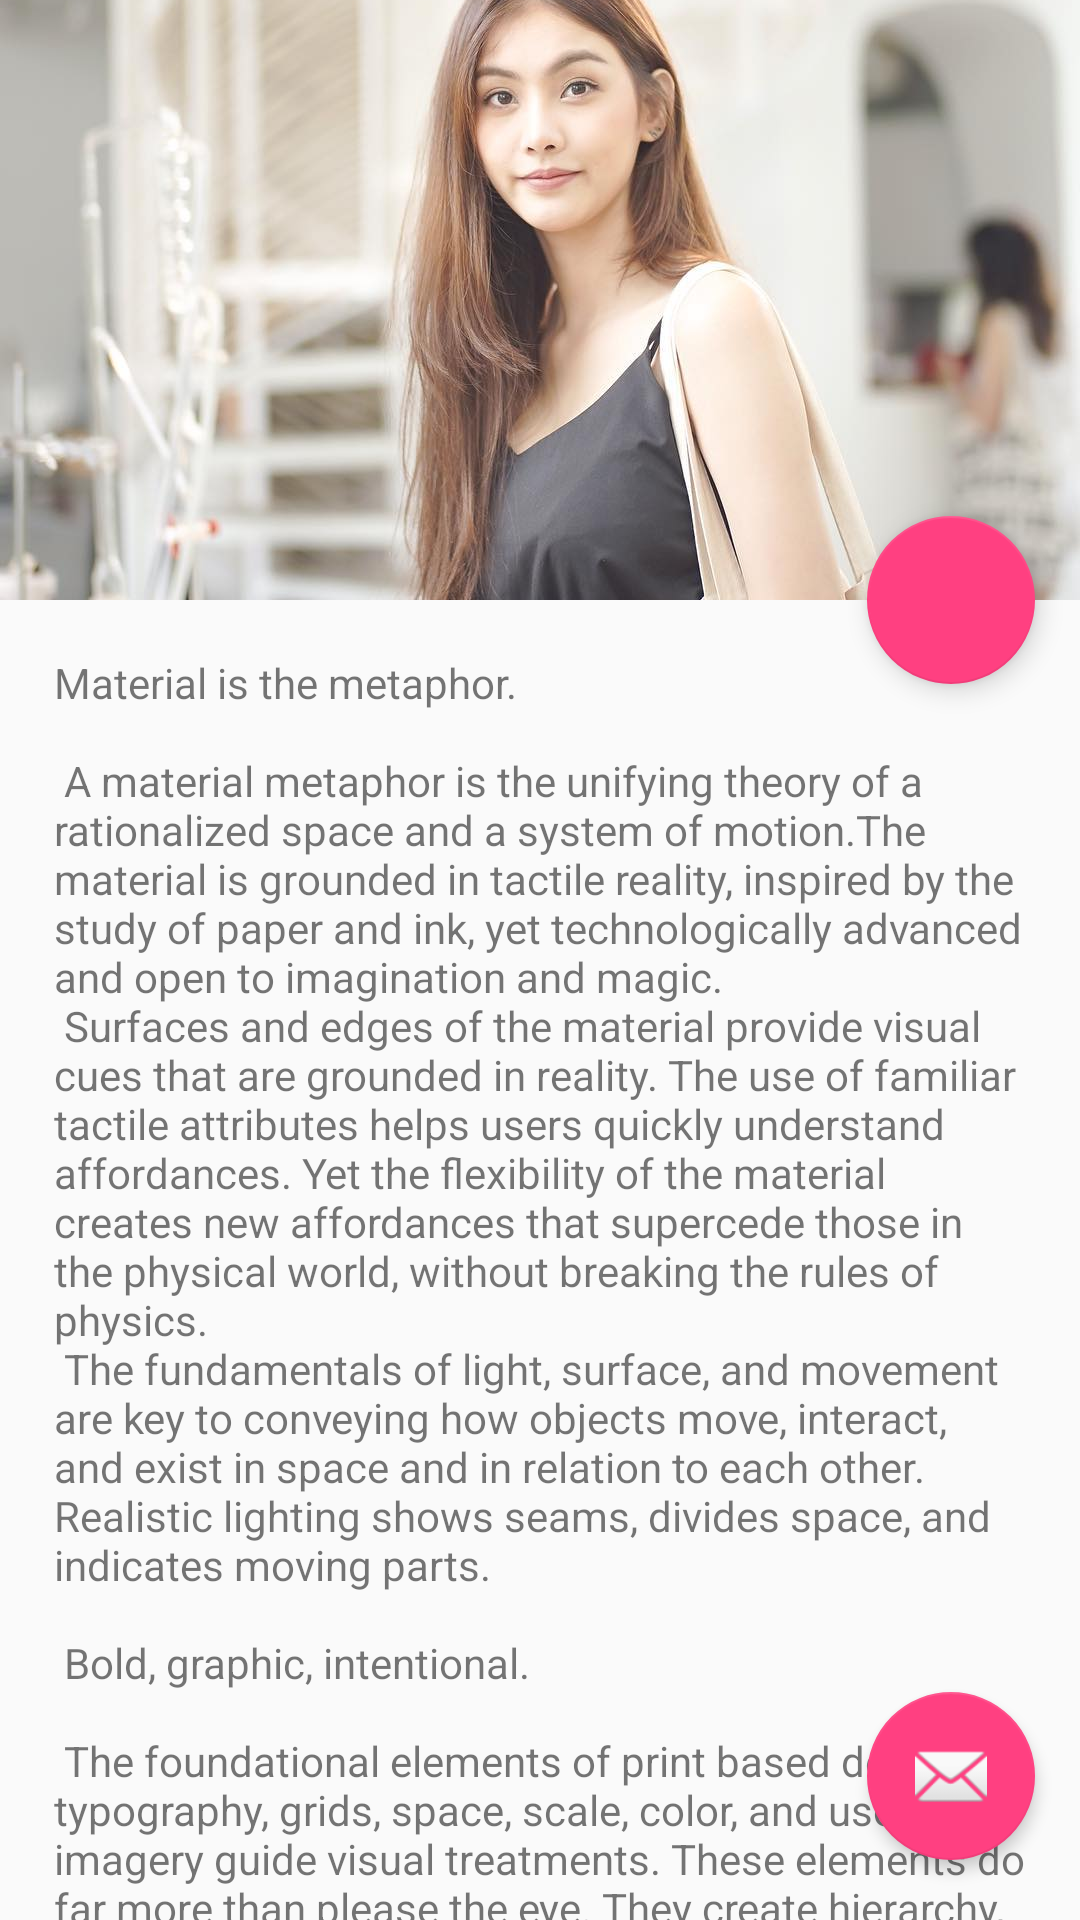

Where to tap for icons on this 1080 x 1920 app screen, as [x,y]:
email: [951,1776]
